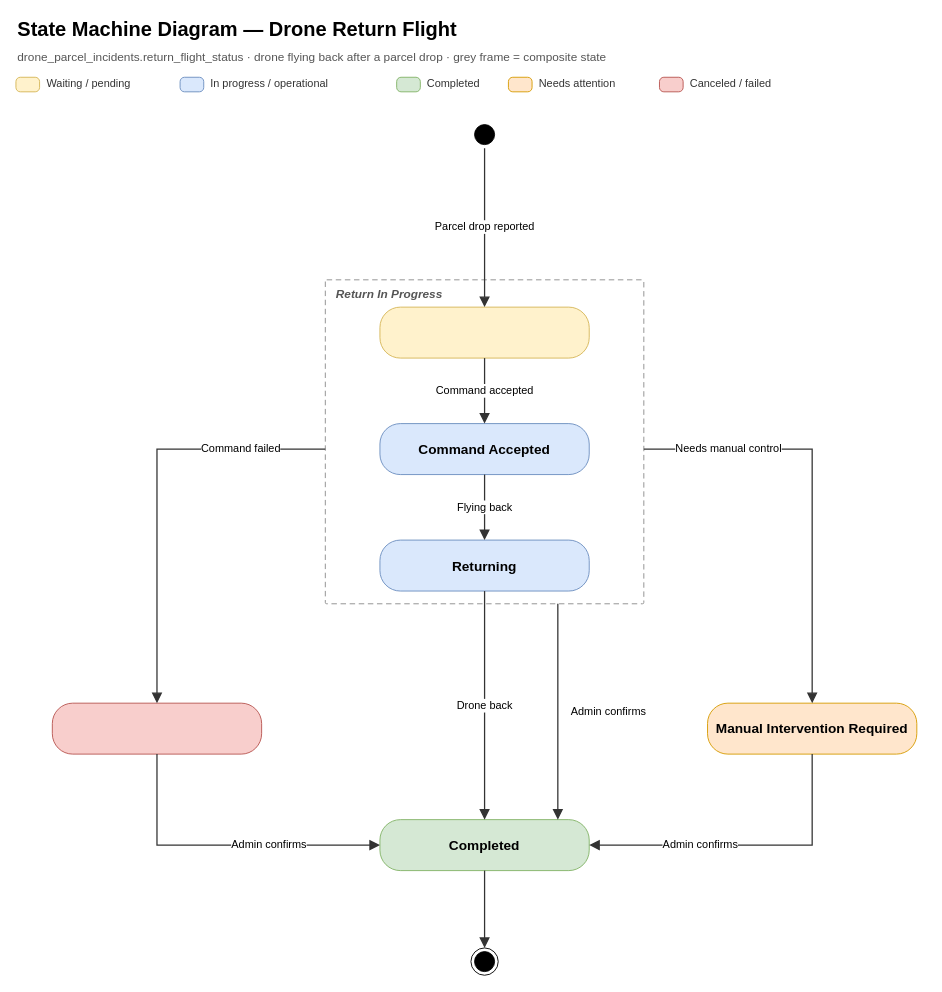
The diagram is 942 pixels wide and 992 high, and some of its shapes have lost their labels. The shapes that lost their labels are listed below. From the top down, each one's centre as x and y in pixels, then its label:
At point 484,332: "Return Requested".
At point 156,728: "Failed".
